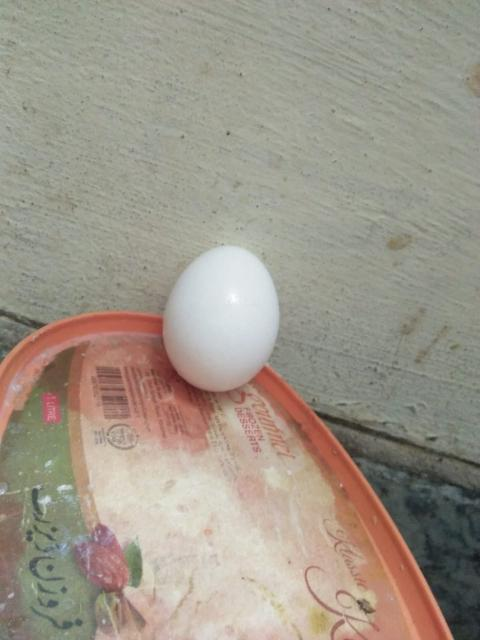Sano: (163, 243, 277, 393)
